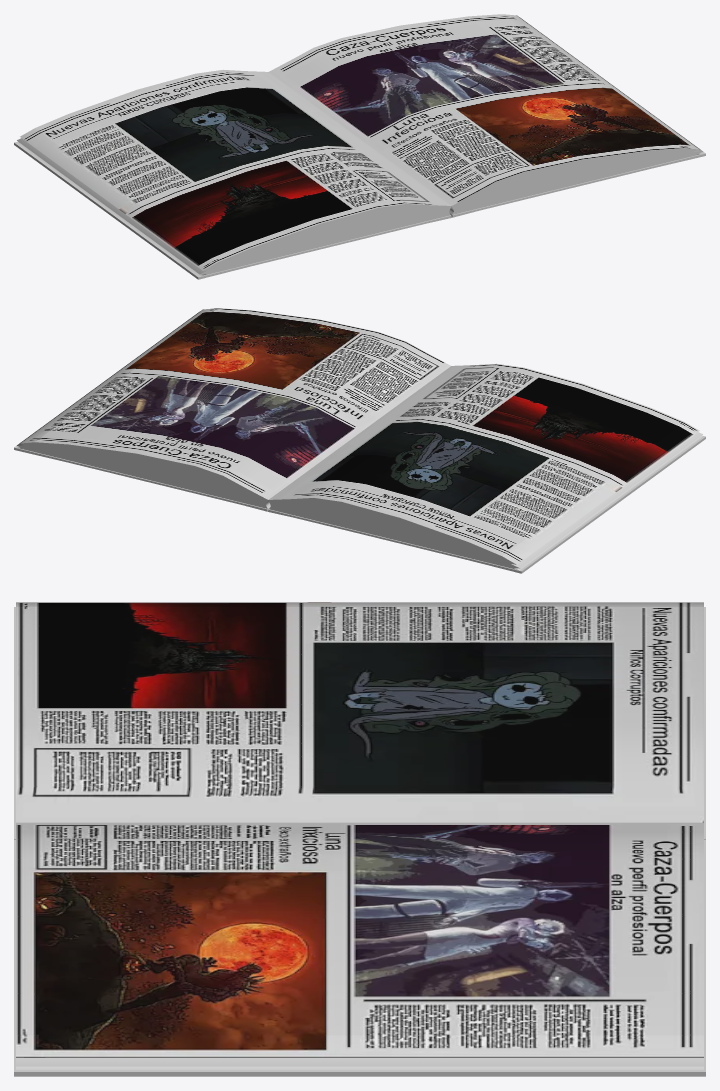
File: magazine-transformed.glb
3 views of the same model, one above another, from view 1: azimuth 30°, elevation 25°; view 2: azimuth 150°, elevation 25°; view 3: azimuth 270°, elevation 25° (orthographic). The views are drawn at different scales.
Visible parts, largest first — view 1: Object_3, Object_2; view 2: Object_3, Object_2; view 3: Object_3, Object_2.
Part boxes in pixels (left/top/right/bottom): Object_3: left=17, top=14, right=705, bottom=279; Object_2: left=14, top=141, right=705, bottom=279; Object_3: left=14, top=308, right=702, bottom=573; Object_2: left=14, top=435, right=705, bottom=573; Object_3: left=16, top=602, right=703, bottom=1070; Object_2: left=14, top=607, right=705, bottom=1076.
Bounding box in the file's own units: 8.95 × 0.4635 × 5.63.
Materials: 1 (1 with a texture image).
